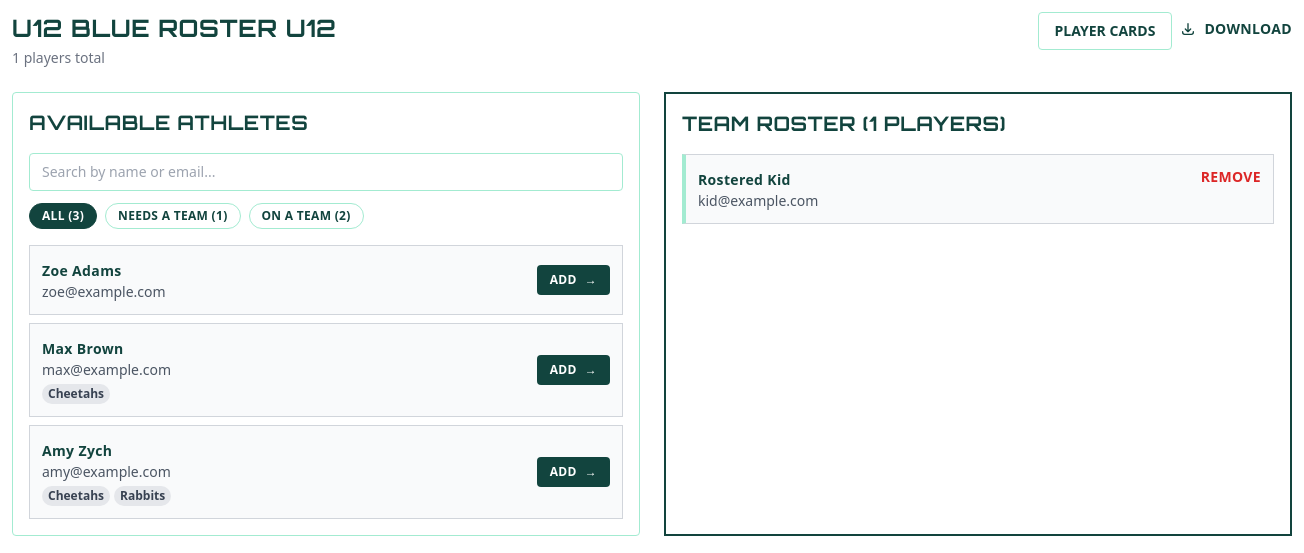
"Needs a team" shows only athletes with no team at all
The image size is (1304, 553).
Expected: the button "All (3)" is shown, left=29, top=203, right=97, bottom=229
Click the button "Needs a team (1)": (173, 216) left=105, top=203, right=240, bottom=229
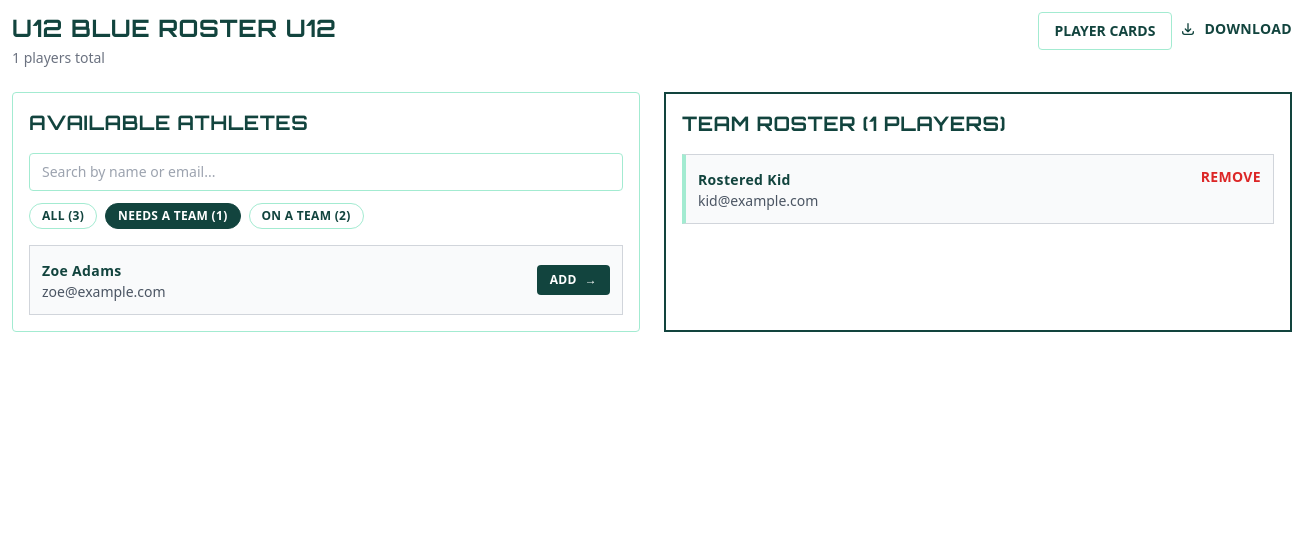
Expected: the button "Zoe Adams" is shown, left=42, top=261, right=122, bottom=281
Expected: the button "Max Brown" is gone
Expected: the button "Amy Zych" is gone
